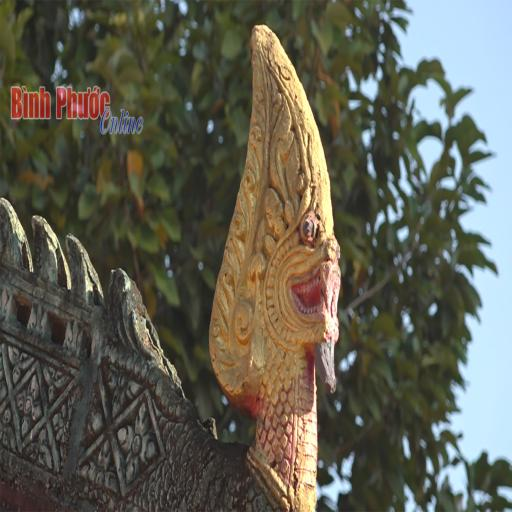hoa: (114, 394, 157, 480), (16, 370, 44, 445)
ran: (194, 9, 367, 511)
